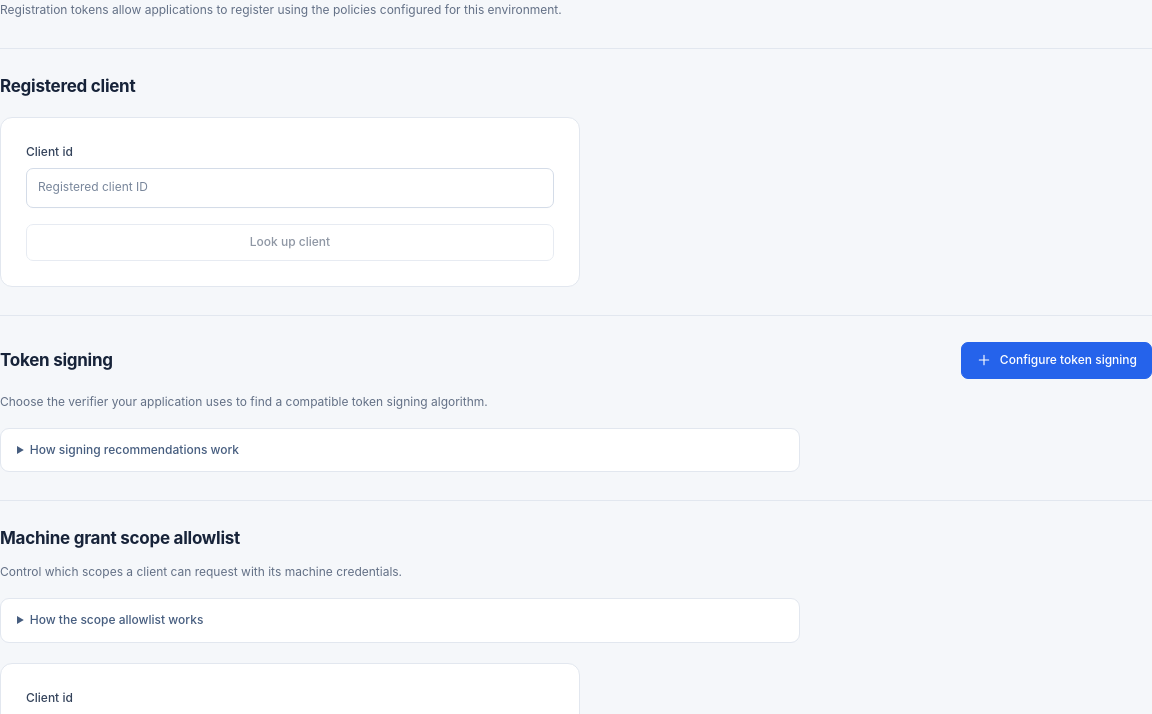
it: a failing write renders through the ErrorView boundary › renders the verbatim server error when the environment cannot sign the algorithm
The width and height of the screenshot is (1152, 714).
(page scrolled)
Click the button "Configure token signing" at x=1056, y=360, box [961, 342, 1151, 379]
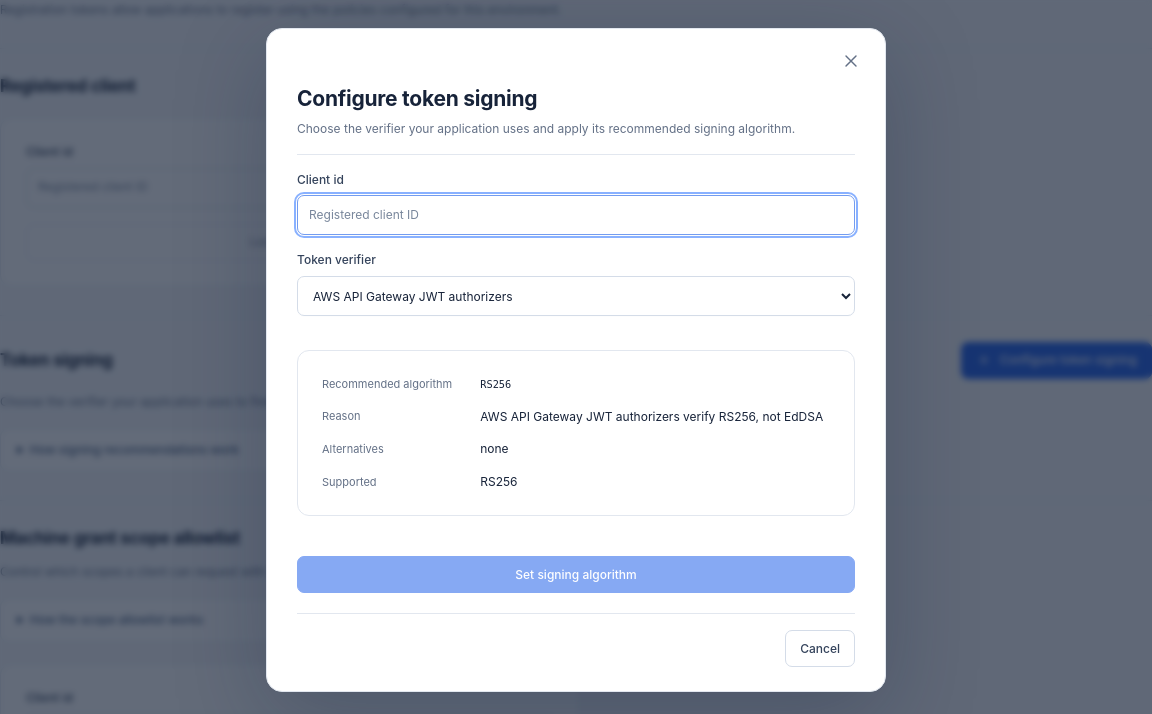
Type "cli_a" into the field with id "signing-client-id" at x=576, y=216, box [297, 196, 855, 236]
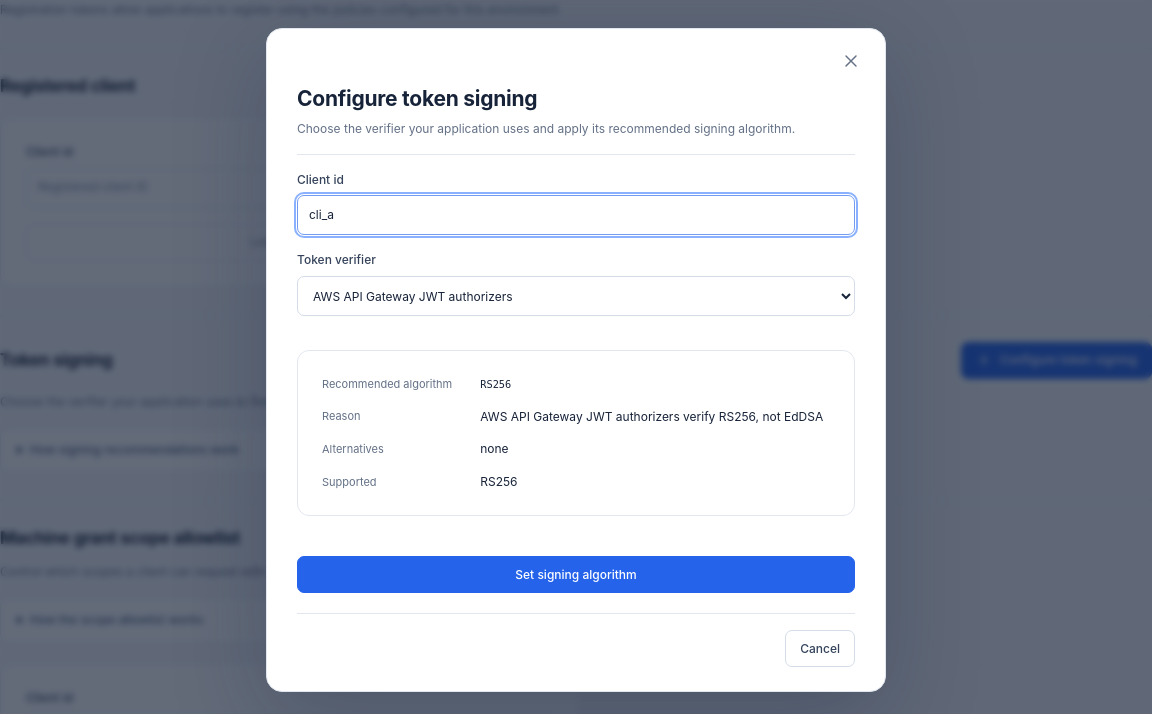
Click the button "Set signing algorithm" at x=576, y=575, box [297, 556, 855, 593]
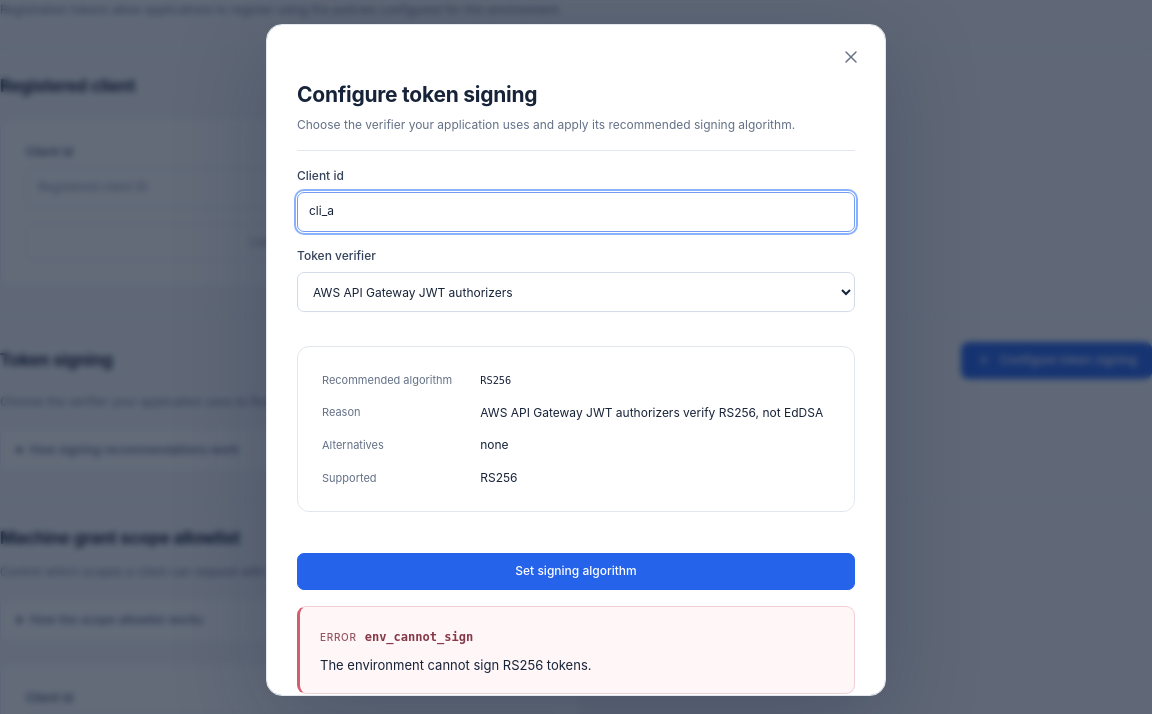
Check: the message with class "errorbody" is shown, box [297, 606, 855, 694]
Check: the message with class "errorbody" shows "env_cannot_sign", box [365, 630, 473, 644]
Check: the message with class "errorbody" shows "The environment cannot sign RS256 tokens.", box [320, 656, 592, 672]
